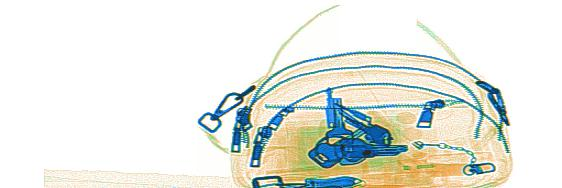plasticBottleWithaNozzle: (395, 150, 494, 177)
